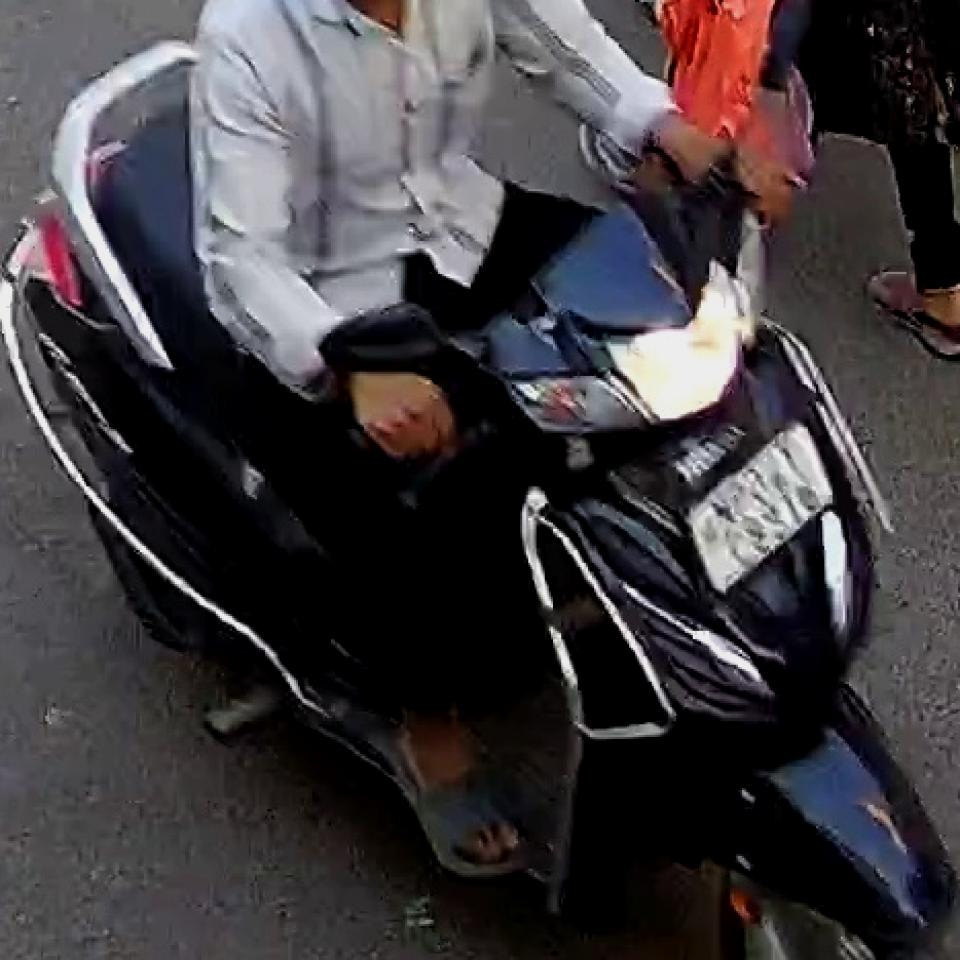head_light: (607, 268, 744, 418)
